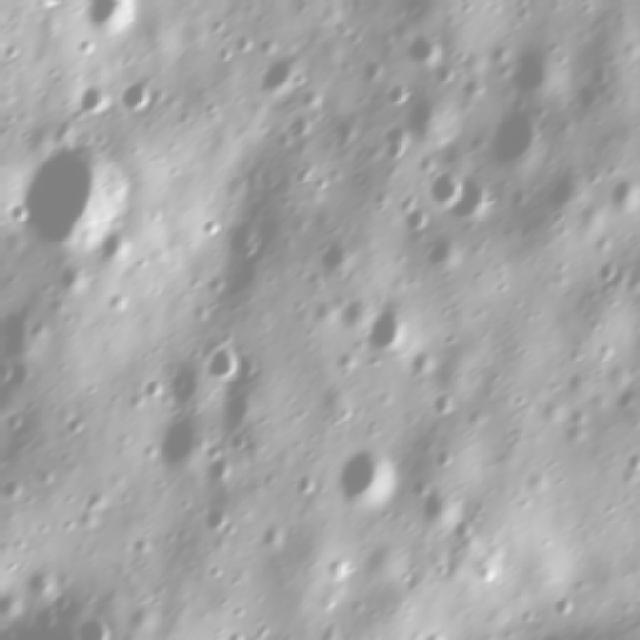crater: (3, 131, 132, 260), (329, 435, 402, 508), (493, 33, 558, 99), (152, 400, 213, 469), (484, 99, 547, 164), (358, 294, 419, 355), (534, 154, 588, 215), (247, 43, 311, 91), (418, 163, 465, 211), (416, 481, 464, 528), (455, 170, 499, 218), (92, 220, 142, 262), (202, 335, 244, 383), (70, 604, 124, 640), (220, 383, 262, 428), (118, 68, 156, 114), (400, 27, 442, 68), (597, 172, 640, 212), (75, 73, 113, 116), (89, 0, 133, 35), (369, 73, 408, 112), (429, 383, 465, 425), (372, 120, 412, 154), (327, 104, 362, 142), (282, 107, 321, 138), (353, 49, 384, 80), (193, 209, 221, 236), (22, 0, 78, 11), (384, 0, 428, 2)
